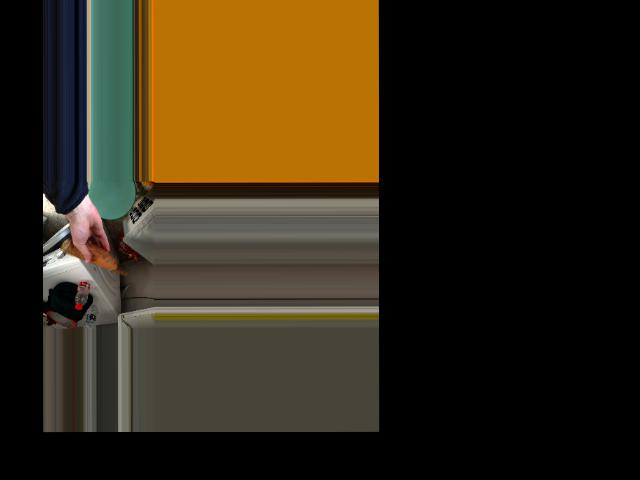sweet_potato: (65, 239, 111, 272)
